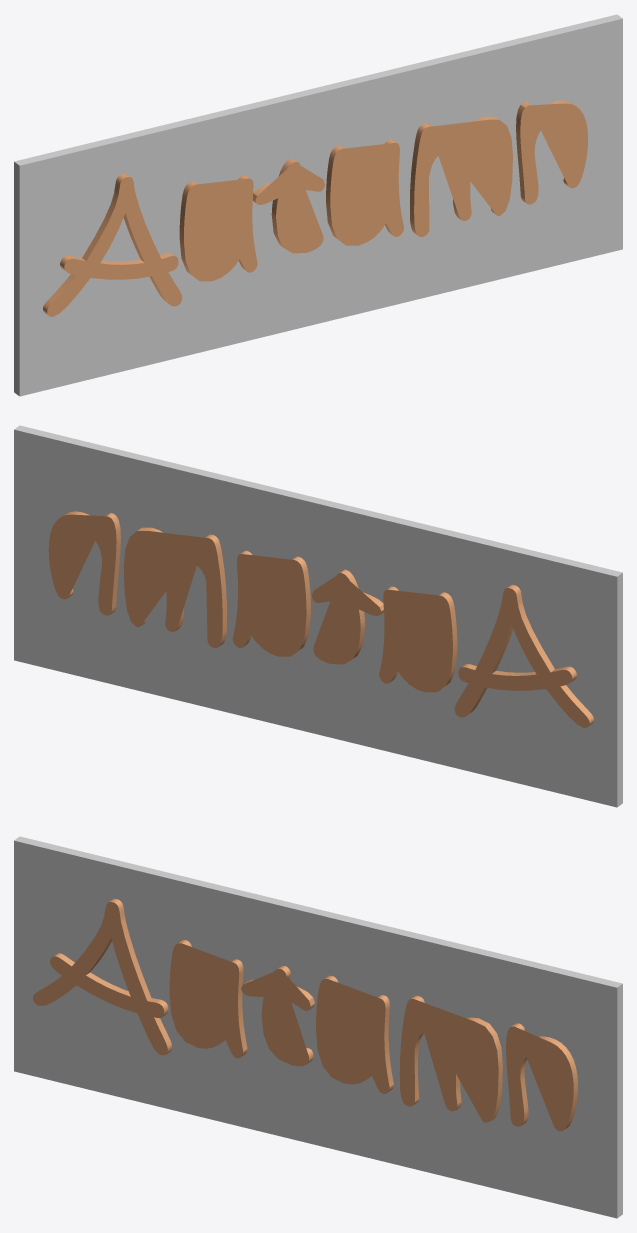
Rendered from autumn.fbx.
3 views of the same model, one above another, from view 1: azimuth 30°, elevation 25°; view 2: azimuth 150°, elevation 25°; view 3: azimuth 330°, elevation 25° (orthographic).
Parts seen in each view (by area): view 1: pCube1, typeMesh1; view 2: pCube1, typeMesh1; view 3: pCube1, typeMesh1.
Boxes of the visible parts, x1,y1,x2,y2 form: pCube1: (14,14,622,396); typeMesh1: (43,100,587,316); pCube1: (14,425,622,807); typeMesh1: (48,511,593,727); pCube1: (14,836,622,1218); typeMesh1: (33,898,577,1131).
Bounding box in the file's own units: 60.2 × 22.01 × 2.5.
